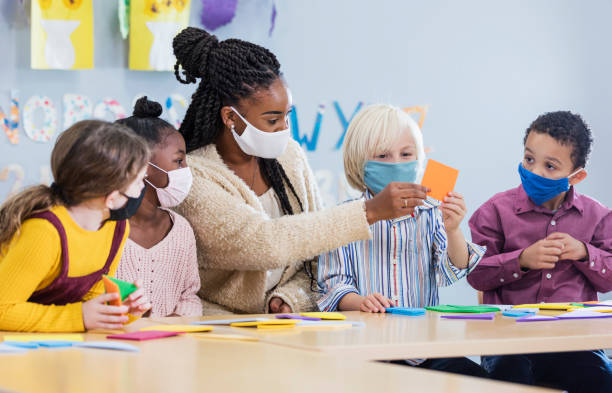with mask: (138, 116, 204, 214), (81, 130, 147, 228), (226, 65, 292, 163), (354, 105, 420, 203), (510, 111, 576, 209)
